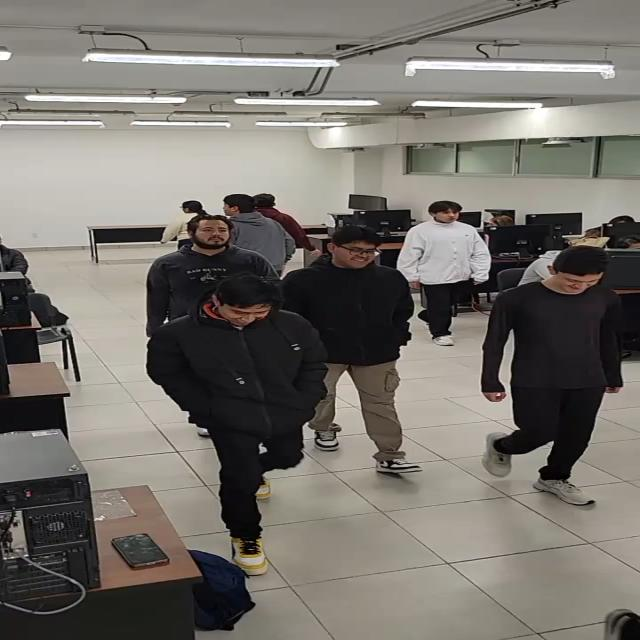Persona: (143, 274, 317, 576), (483, 244, 640, 506), (297, 223, 420, 487), (402, 196, 484, 352), (144, 213, 224, 322)
